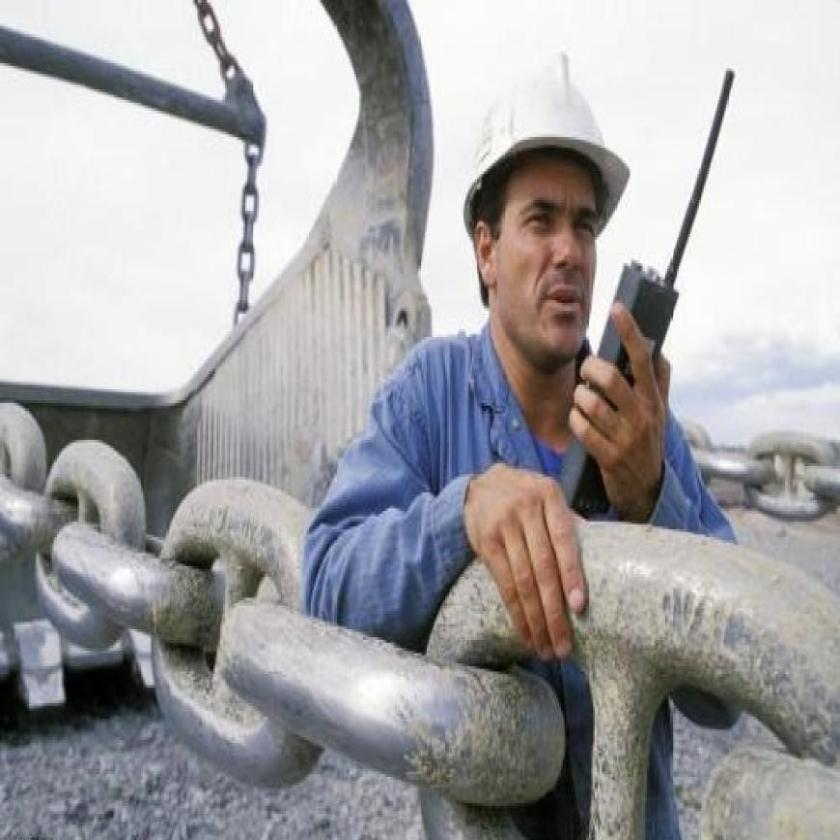Con_casco: (464, 40, 642, 389)
